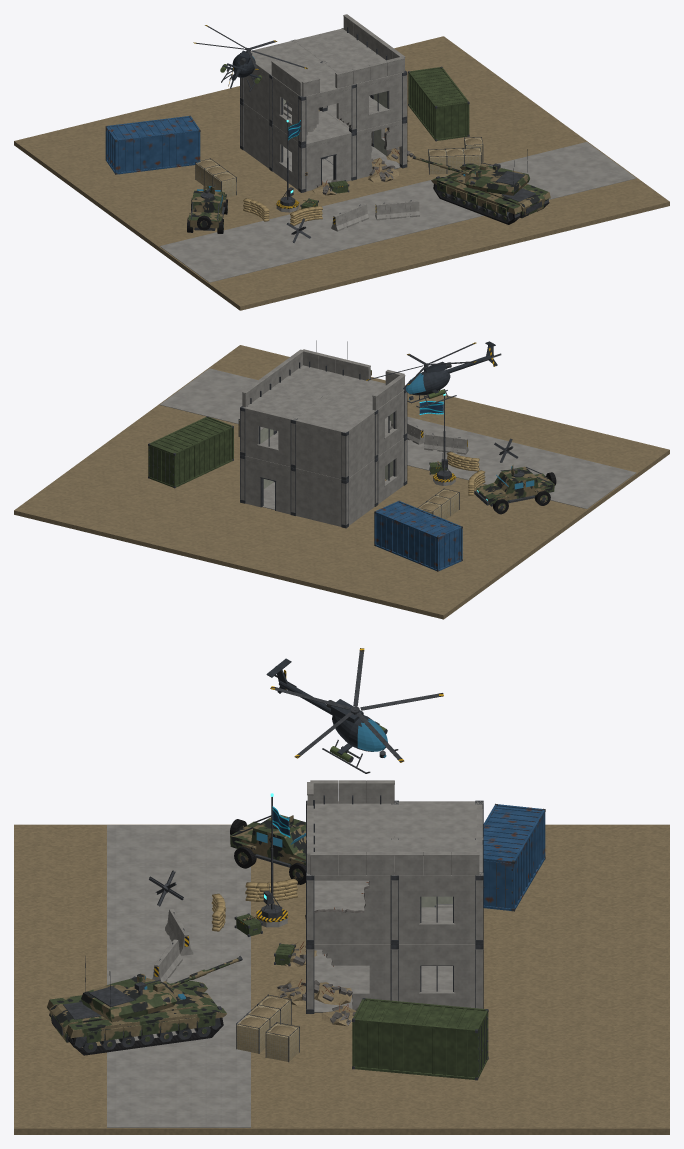
Rendered from BF6_Outpost_Alpha_Demo.glb.
3 views of the same model, one above another, from view 1: azimuth 30°, elevation 25°; view 2: azimuth 150°, elevation 25°; view 3: azimuth 270°, elevation 25° (orthographic). The views are drawn at different scales.
Visible parts, largest first — view 1: ENV_Outpost_GroundPad, Cont_Blue_NW_COV_Container_20ft_Blue_Mesh, Cont_Olive_E_COV_Container_20ft_Olive_Mesh, Demo_MBT_VEH_MBT_Hull, F2_S2_BLD_Wall_Window_4m, F1_S1_BLD_Wall_Door_4m, Demo_MBT_VEH_MBT_Turret, Roof_Slab_BLD_FloorSlab_4x4_Mesh.002, Demo_LATV4_VEH_LATV4_Chassis, F1_W1_BLD_Wall_Solid_4m, Roof_Slab_BLD_FloorSlab_4x4_Mesh.003, F2_S1_Breached_BLD_Wall_Window_4m (+19 smaller); view 2: ENV_Outpost_GroundPad, Cont_Blue_NW_COV_Container_20ft_Blue_Mesh, Cont_Olive_E_COV_Container_20ft_Olive_Mesh, F1_N2_BLD_Wall_Solid_4m, F2_N2_BLD_Wall_Solid_4m, Demo_LATV4_VEH_LATV4_Chassis, F2_N1_BLD_Wall_Window_4m, Demo_Heli_VEH_Heli_Fuselage, F1_N1_BLD_Wall_Door_4m, Roof_Slab_BLD_FloorSlab_4x4_Mesh.001, Roof_Slab_BLD_FloorSlab_4x4_Mesh.003, Roof_Slab_BLD_FloorSlab_4x4_Mesh.002 (+15 smaller); view 3: ENV_Outpost_GroundPad, Cont_Olive_E_COV_Container_20ft_Olive_Mesh, Demo_MBT_VEH_MBT_Hull, Cont_Blue_NW_COV_Container_20ft_Blue_Mesh, F2_E2_BLD_Wall_Window_4m, F2_E1_Breached_BLD_Wall_Solid_4m, F1_E2_BLD_Wall_Window_4m, Roof_Slab_BLD_FloorSlab_4x4_Mesh.003, Demo_MBT_VEH_MBT_Turret, Roof_Slab_BLD_FloorSlab_4x4_Mesh, Demo_Heli_VEH_Heli_Fuselage, Demo_LATV4_VEH_LATV4_Chassis (+16 smaller).
Boxes of the visible parts, <box> form: ENV_Outpost_GroundPad: <box>14,36,669,310</box>; Cont_Blue_NW_COV_Container_20ft_Blue_Mesh: <box>105,115,200,174</box>; Cont_Olive_E_COV_Container_20ft_Olive_Mesh: <box>408,66,469,141</box>; Demo_MBT_VEH_MBT_Hull: <box>431,163,550,224</box>; F2_S2_BLD_Wall_Window_4m: <box>357,76,402,131</box>; F1_S1_BLD_Wall_Door_4m: <box>306,136,351,191</box>; Demo_MBT_VEH_MBT_Turret: <box>465,149,529,195</box>; Roof_Slab_BLD_FloorSlab_4x4_Mesh.002: <box>296,30,371,61</box>; Demo_LATV4_VEH_LATV4_Chassis: <box>188,189,226,230</box>; F1_W1_BLD_Wall_Solid_4m: <box>243,106,269,168</box>; Roof_Slab_BLD_FloorSlab_4x4_Mesh.003: <box>251,42,321,71</box>; F2_S1_Breached_BLD_Wall_Window_4m: <box>306,89,351,135</box>; ENV_Outpost_GroundPad: <box>14,345,669,619</box>; Cont_Blue_NW_COV_Container_20ft_Blue_Mesh: <box>374,500,462,571</box>; Cont_Olive_E_COV_Container_20ft_Olive_Mesh: <box>148,416,233,488</box>; F1_N2_BLD_Wall_Solid_4m: <box>296,472,341,526</box>; F2_N2_BLD_Wall_Solid_4m: <box>296,424,341,478</box>; Demo_LATV4_VEH_LATV4_Chassis: <box>474,466,556,506</box>; F2_N1_BLD_Wall_Window_4m: <box>245,412,290,466</box>; Demo_Heli_VEH_Heli_Fuselage: <box>403,341,497,408</box>; F1_N1_BLD_Wall_Door_4m: <box>245,459,290,514</box>; Roof_Slab_BLD_FloorSlab_4x4_Mesh.001: <box>276,365,351,397</box>; Roof_Slab_BLD_FloorSlab_4x4_Mesh.003: <box>296,398,371,430</box>; Roof_Slab_BLD_FloorSlab_4x4_Mesh.002: <box>247,386,322,418</box>; ENV_Outpost_GroundPad: <box>14,824,669,1134</box>; Cont_Olive_E_COV_Container_20ft_Olive_Mesh: <box>352,998,488,1080</box>; Demo_MBT_VEH_MBT_Hull: <box>47,981,226,1055</box>; Cont_Blue_NW_COV_Container_20ft_Blue_Mesh: <box>483,803,545,911</box>; F2_E2_BLD_Wall_Window_4m: <box>399,880,475,944</box>; F2_E1_Breached_BLD_Wall_Solid_4m: <box>314,880,390,944</box>; F1_E2_BLD_Wall_Window_4m: <box>399,949,475,1007</box>; Roof_Slab_BLD_FloorSlab_4x4_Mesh.003: <box>395,803,479,838</box>; Demo_MBT_VEH_MBT_Turret: <box>81,956,177,1022</box>; Roof_Slab_BLD_FloorSlab_4x4_Mesh: <box>313,803,394,838</box>; Demo_Heli_VEH_Heli_Fuselage: <box>266,658,398,773</box>; Demo_LATV4_VEH_LATV4_Chassis: <box>230,814,305,867</box>.
Bounding box in the file's own units: 34 × 12.26 × 31.
23 materials, 23 textured.
